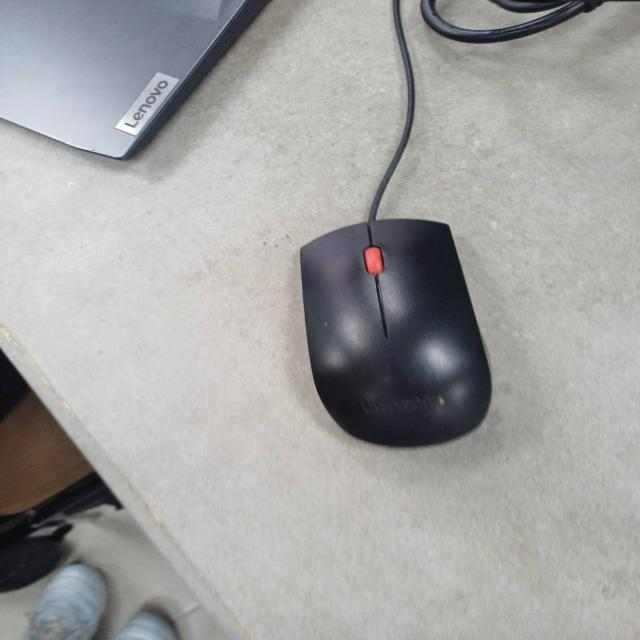mouse: (293, 213, 496, 452)
